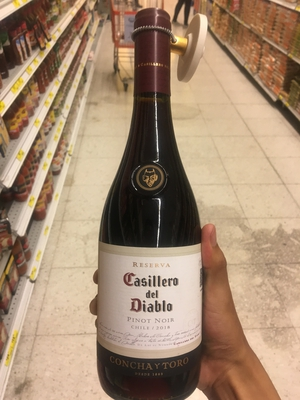casillero del diablo pinot noir: (80, 13, 227, 400)
